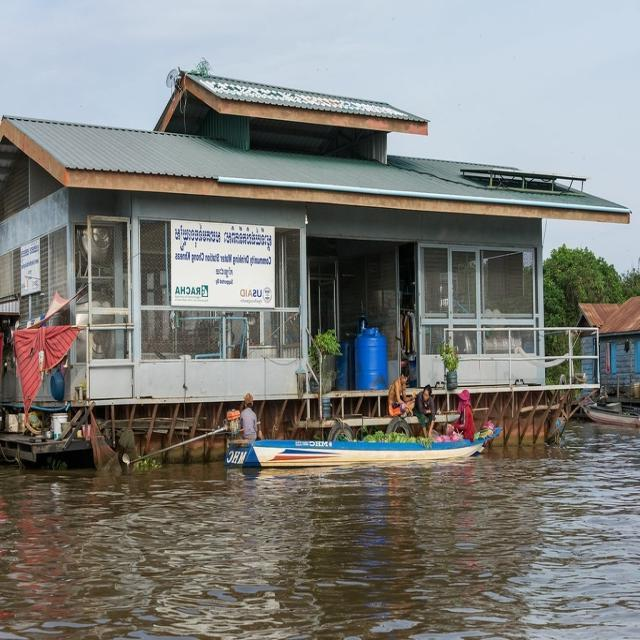Hyacinth: (129, 454, 161, 476)
boat: (199, 408, 514, 477)
